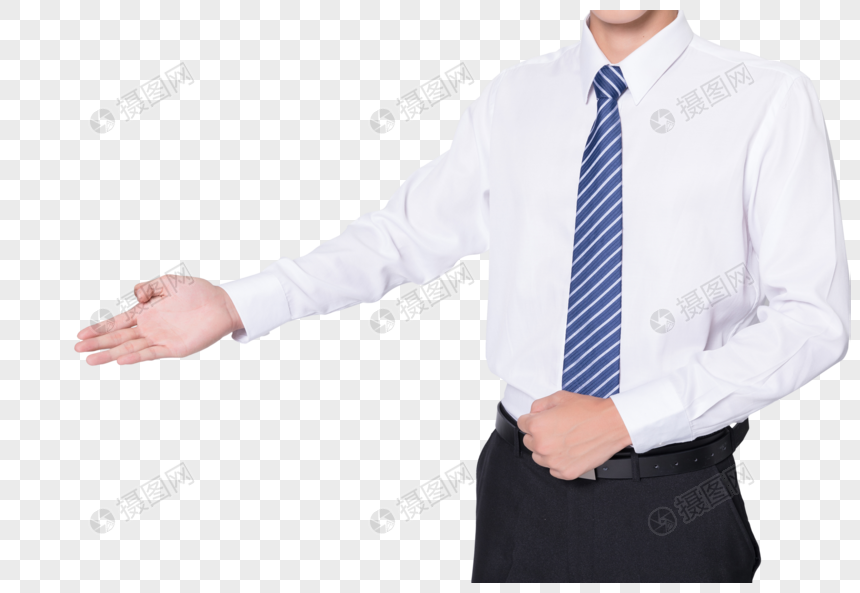no-phone: (68, 269, 237, 364)
